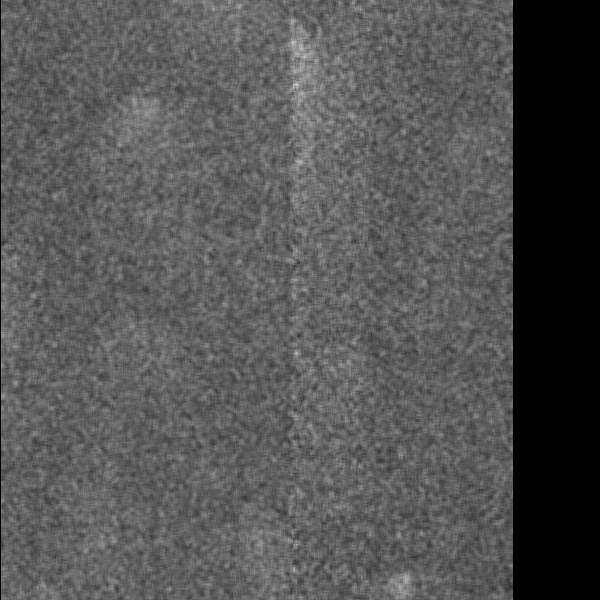spark: (338, 499, 367, 579), (394, 411, 446, 431), (447, 99, 478, 132), (381, 370, 404, 411), (290, 194, 311, 238), (391, 568, 416, 598), (364, 552, 391, 566)
